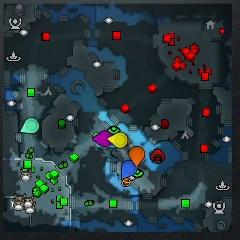p1: (121, 160, 137, 180)
p2: (20, 118, 40, 134)
p3: (92, 131, 113, 147)
p4: (107, 132, 128, 148)
p5: (129, 146, 144, 166)
